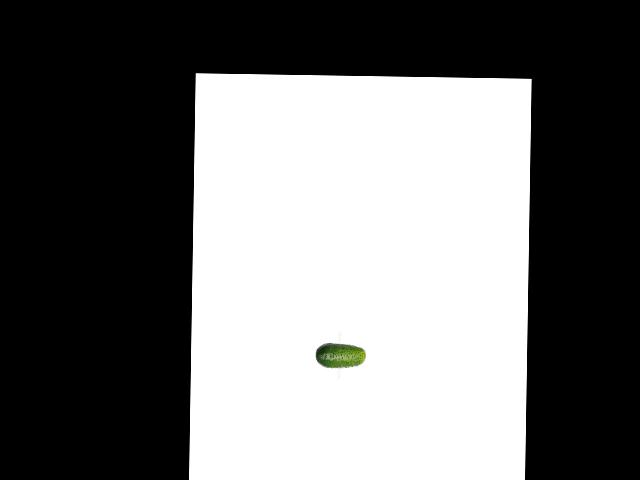cucumber: (315, 342, 366, 369)
